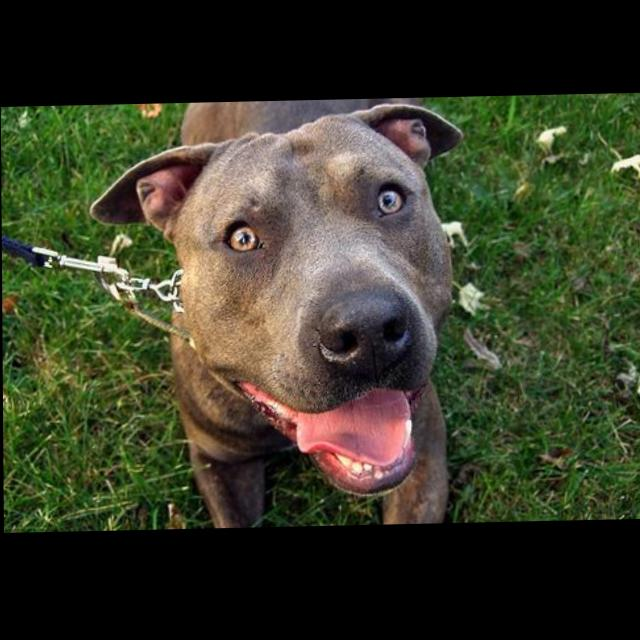amstaff: (88, 100, 468, 532)
